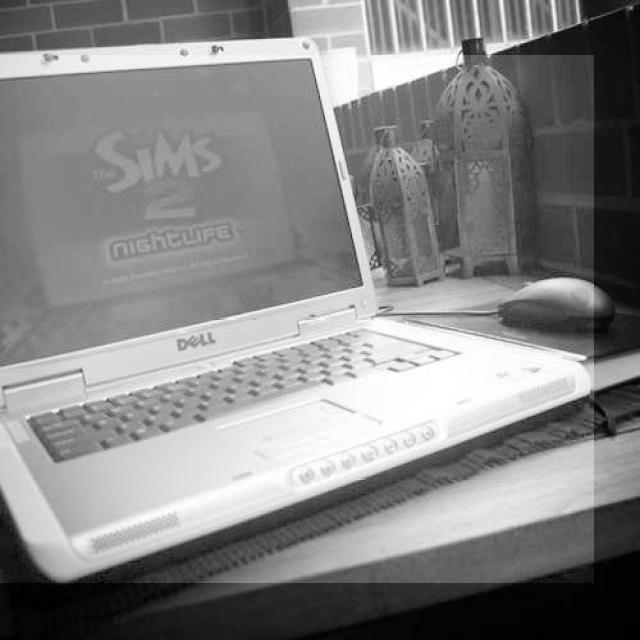-keyboard-: (0, 56, 594, 584)
